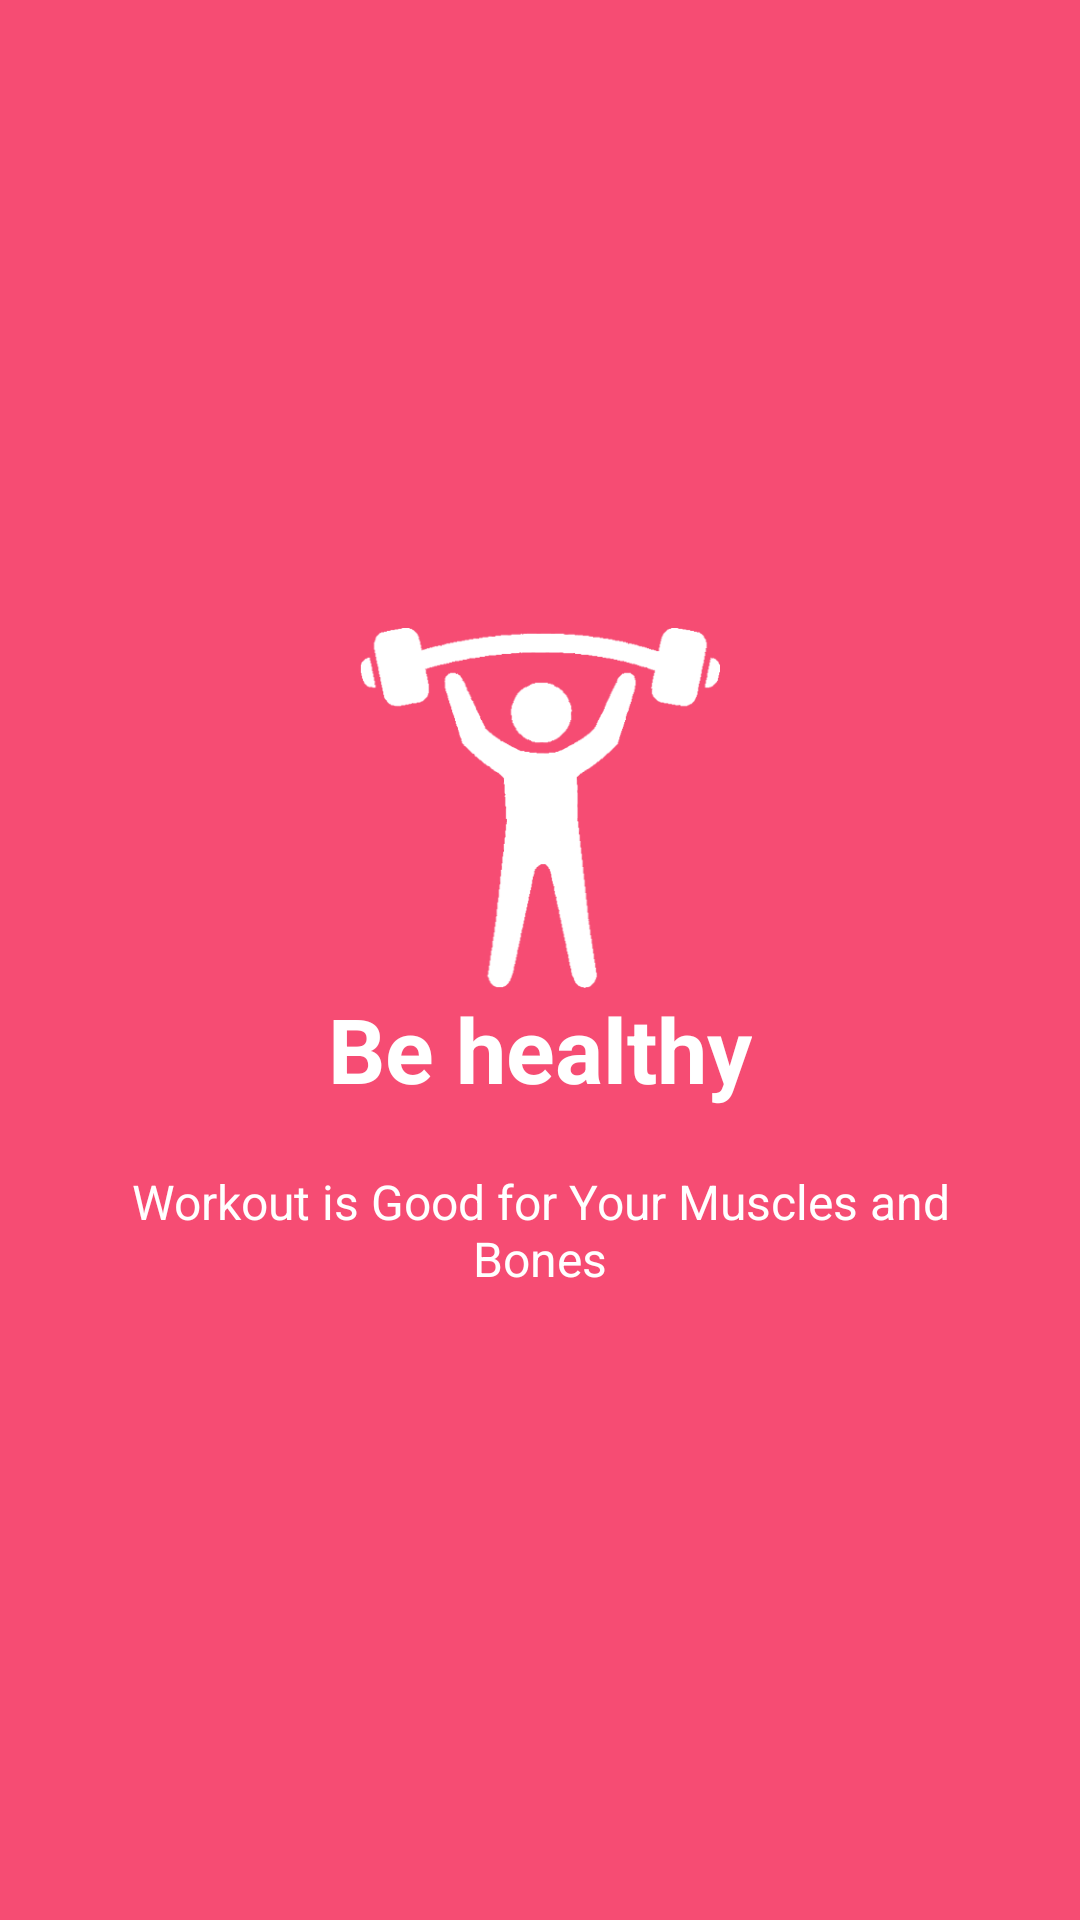

Screen size 1080w x 1920h. Icon name, then its center in pixels as (x=x, y=y):
workout: (x=540, y=808)
